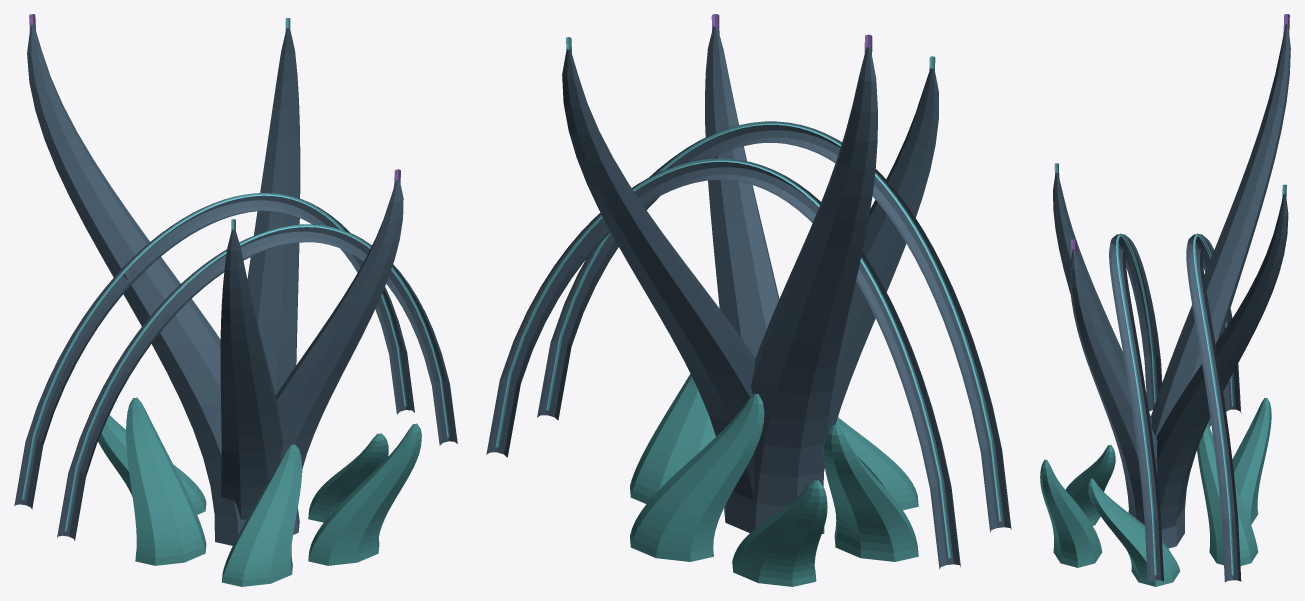
File: hexcore_elven_sanctuary_05.glb
The picture shows the model from 3 angles, left to right: view 1: azimuth 30°, elevation 25°; view 2: azimuth 150°, elevation 25°; view 3: azimuth 270°, elevation 25°; orthographic projection. The views are drawn at different scales.
Parts seen in each view (by area): view 1: world; view 2: world; view 3: world.
Boxes of the visible parts, bbox=[...] form: world: bbox=[14, 14, 457, 586]; world: bbox=[486, 14, 1011, 586]; world: bbox=[1040, 14, 1290, 586].
Size of the model in its own units: 32.21 by 38.71 by 19.49.
